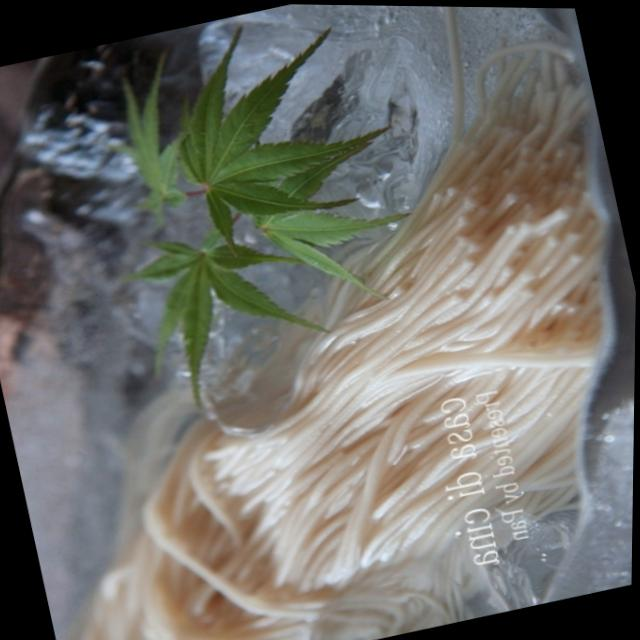面条主食: (0, 19, 640, 640)
